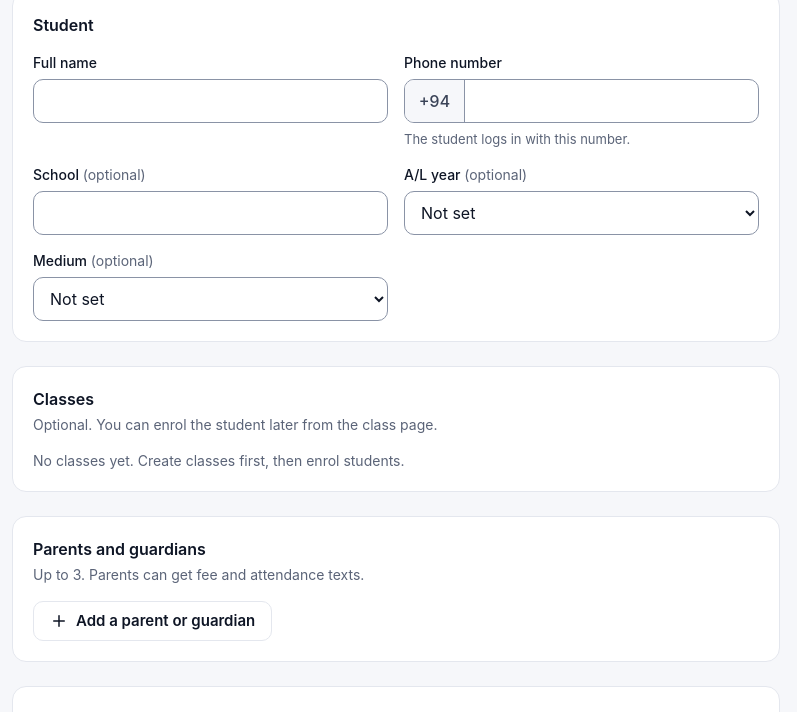
Test case: StudentForm › shows a duplicate phone (409) next to the phone field
The width and height of the screenshot is (797, 712).
Type "Nimali Perera" into the field labelled "Full name" at point(210, 101), box [33,79,388,123]
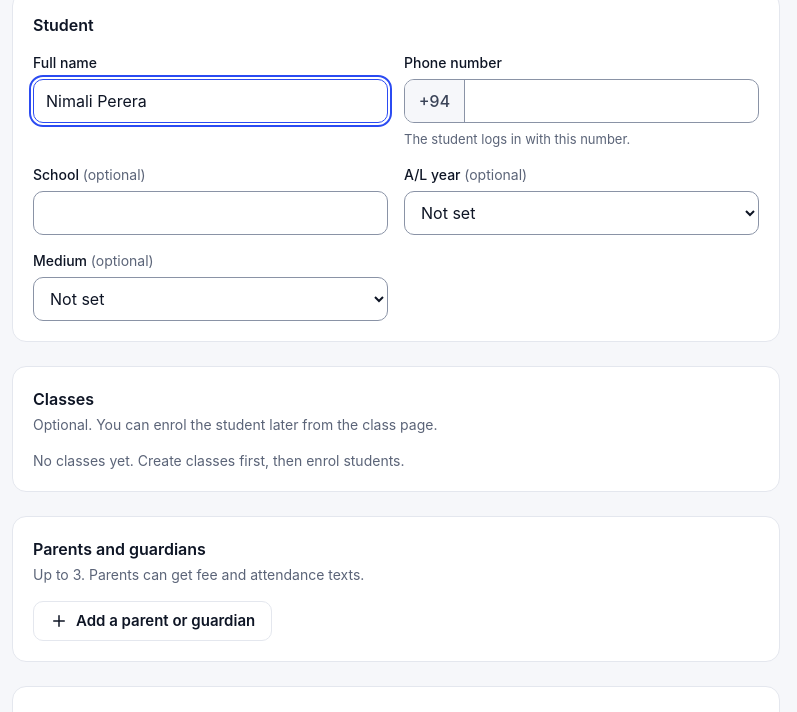
Type "077 123 4567" into the field labelled "Phone number" at point(612, 101), box [465,80,758,122]
(page scrolled)
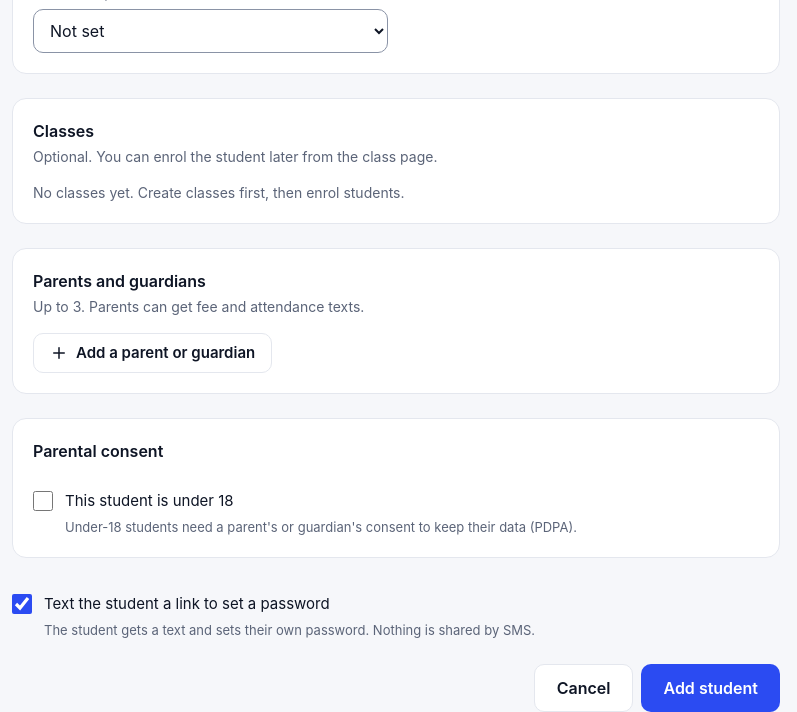
Click the button "Add student" at point(711, 688), box [642,664,780,711]
(page scrolled)
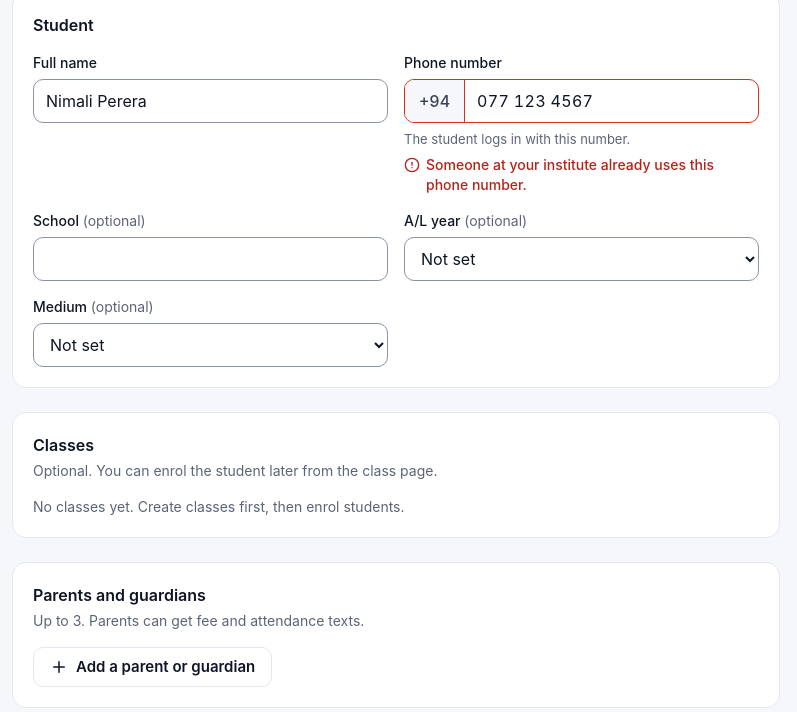
Check: the text "Someone at your institute already uses this phone number." is shown, box [426,155,759,195]
